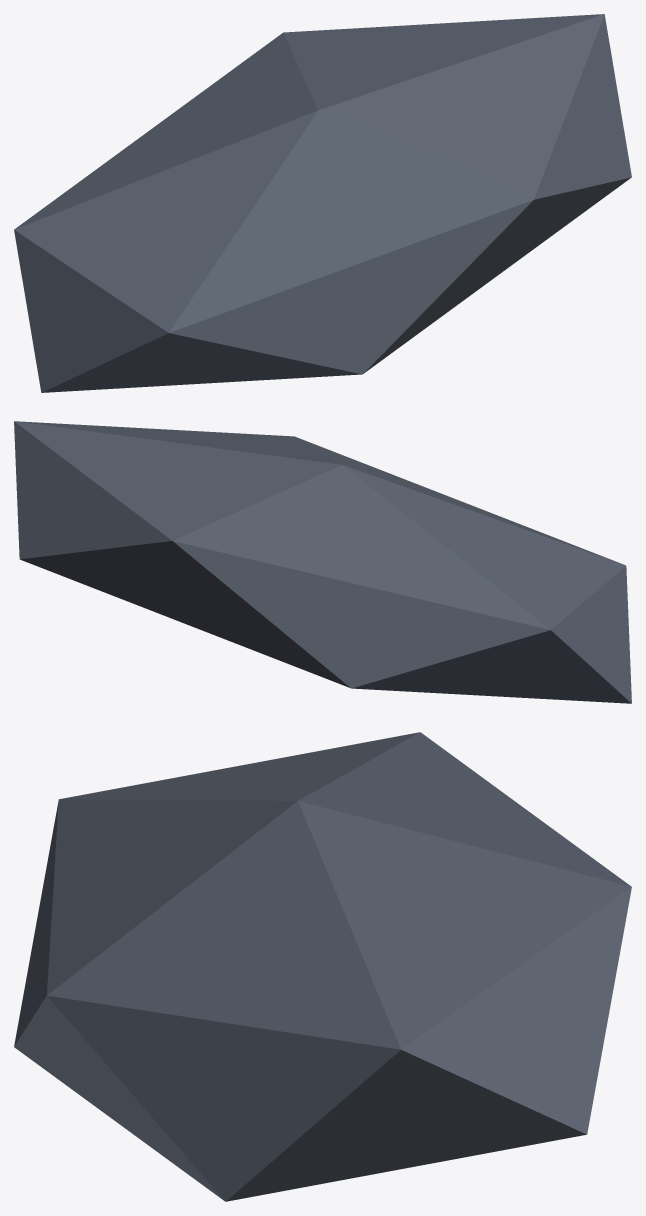
Rendered from EXTC_Rubble_00.glb.
The picture shows the model from 3 angles, top to bottom: view 1: azimuth 30°, elevation 25°; view 2: azimuth 150°, elevation 25°; view 3: azimuth 270°, elevation 25°; orthographic projection. The views are drawn at different scales.
Parts seen in each view (by area): view 1: EXTC_Rubble_00; view 2: EXTC_Rubble_00; view 3: EXTC_Rubble_00.
Part boxes in pixels (left/top/right/bottom): EXTC_Rubble_00: left=14, top=14, right=631, bottom=392; EXTC_Rubble_00: left=14, top=421, right=631, bottom=703; EXTC_Rubble_00: left=14, top=732, right=631, bottom=1201.
Size of the model in its own units: 1.23 by 0.3927 by 0.7024.
